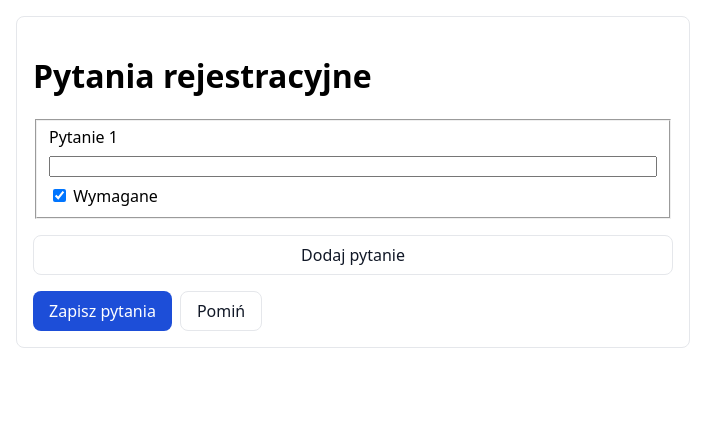
RegistrationQuestionsSetupPage › validates empty questions
The width and height of the screenshot is (707, 421).
Click the button "Zapisz pytania" at x=102, y=312, box [33, 292, 172, 332]
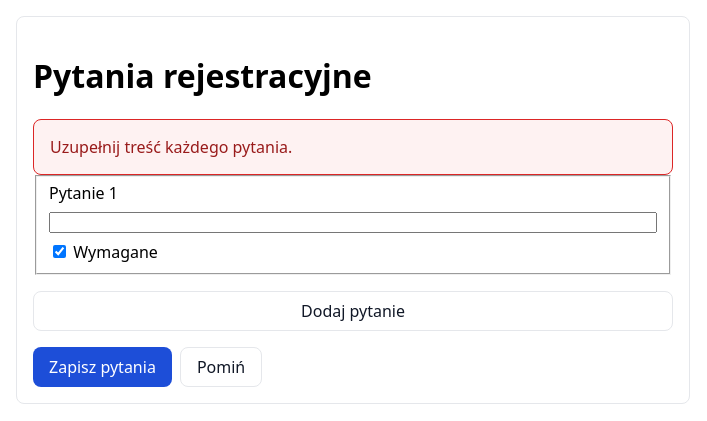
Expected: the text "Uzupełnij treść każdego pytania." is shown, [33, 119, 673, 175]
